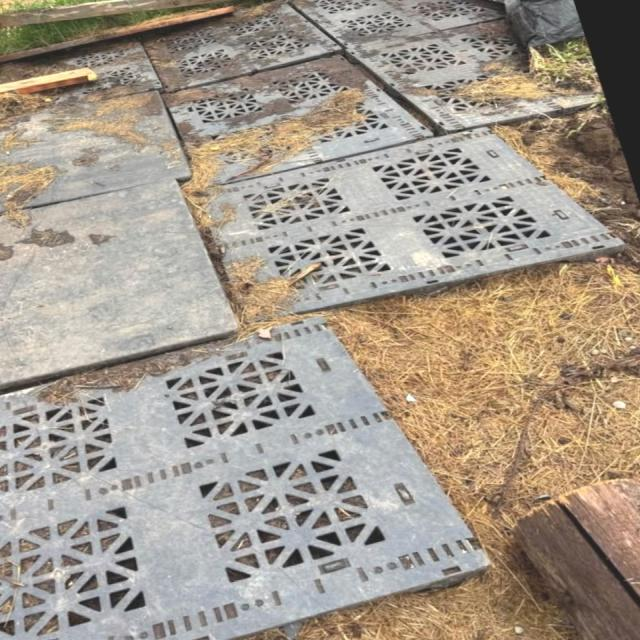non-igps: (0, 312, 492, 638), (197, 122, 631, 332), (0, 0, 610, 139), (0, 173, 248, 400), (157, 52, 437, 195)
